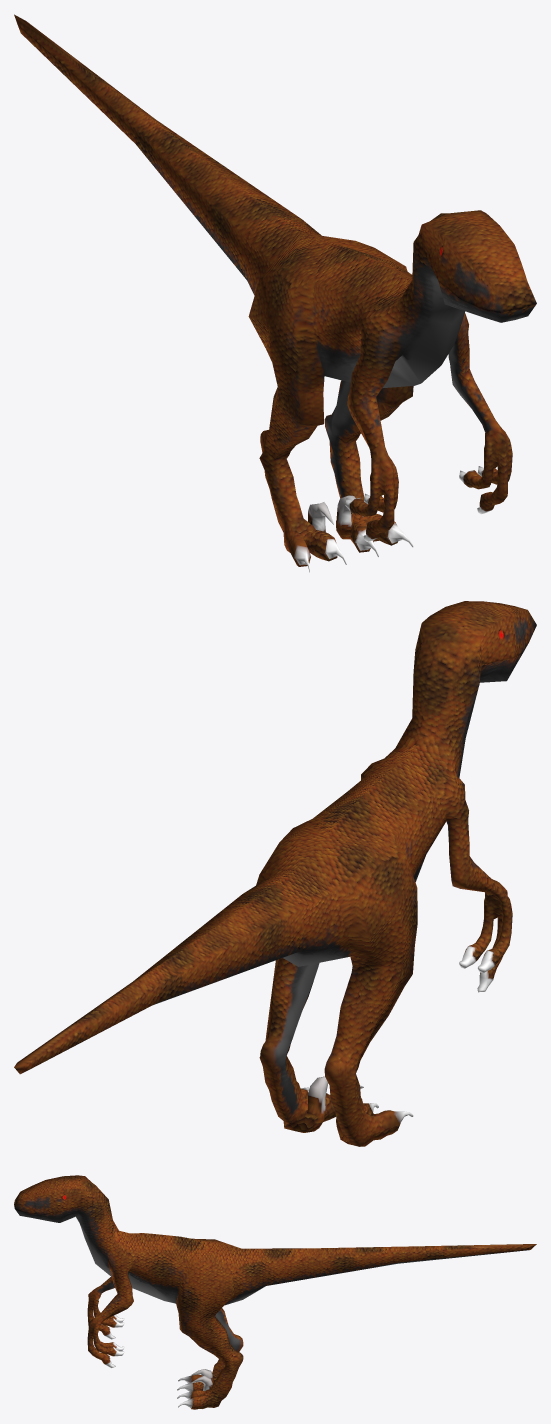
Rendered from kaonov_creature.obj.
3 views of the same model, one above another, from view 1: azimuth 30°, elevation 25°; view 2: azimuth 150°, elevation 25°; view 3: azimuth 270°, elevation 25° (orthographic). The views are drawn at different scales.
Visible parts, largest first — view 1: kaonov_creature; view 2: kaonov_creature; view 3: kaonov_creature.
Boxes of the visible parts, x1,y1,x2,y2 form: kaonov_creature: (14,14,536,572); kaonov_creature: (14,601,536,1146); kaonov_creature: (14,1175,536,1409).
Bounding box in the file's own units: 15.79 × 44.35 × 95.9.
1 material, 1 textured.
